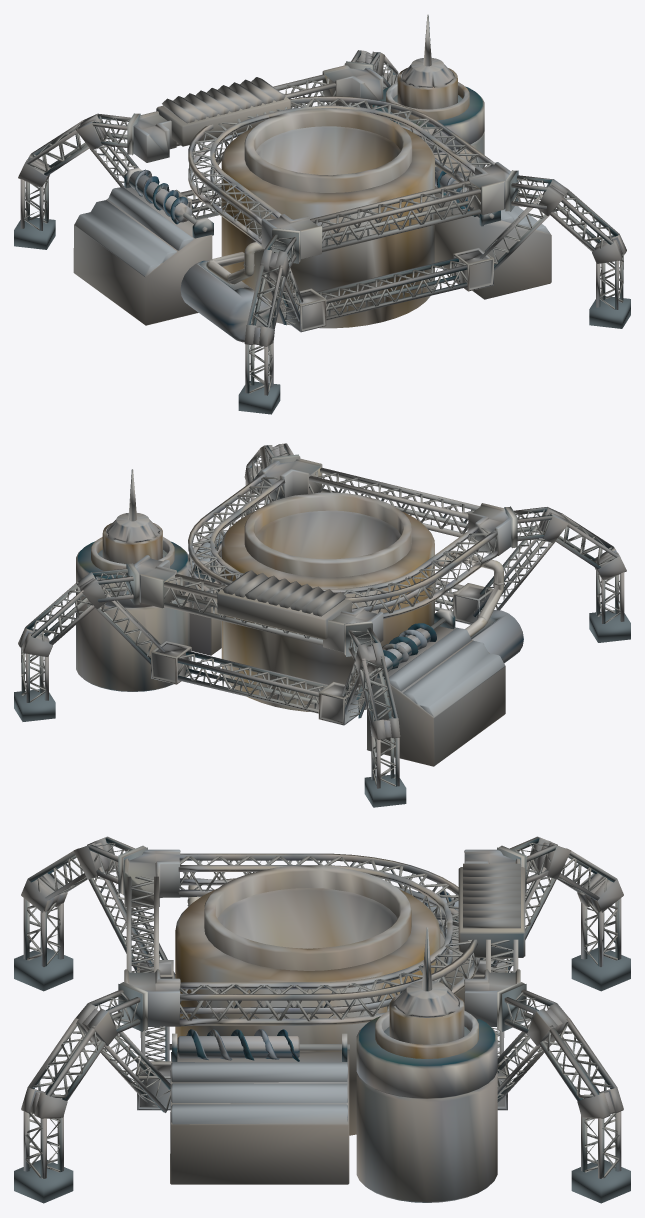
The model's file is radar.0.glb.
3 views of the same model, one above another, from view 1: azimuth 30°, elevation 25°; view 2: azimuth 150°, elevation 25°; view 3: azimuth 270°, elevation 25° (orthographic). The views are drawn at different scales.
Parts seen in each view (by area): view 1: modelo; view 2: modelo; view 3: modelo.
Part boxes in pixels (left/top/right/bottom): modelo: left=14, top=14, right=630, bottom=414; modelo: left=14, top=443, right=630, bottom=807; modelo: left=14, top=836, right=630, bottom=1203.
Bounding box in the file's own units: 5.36 × 2.6 × 5.88.
